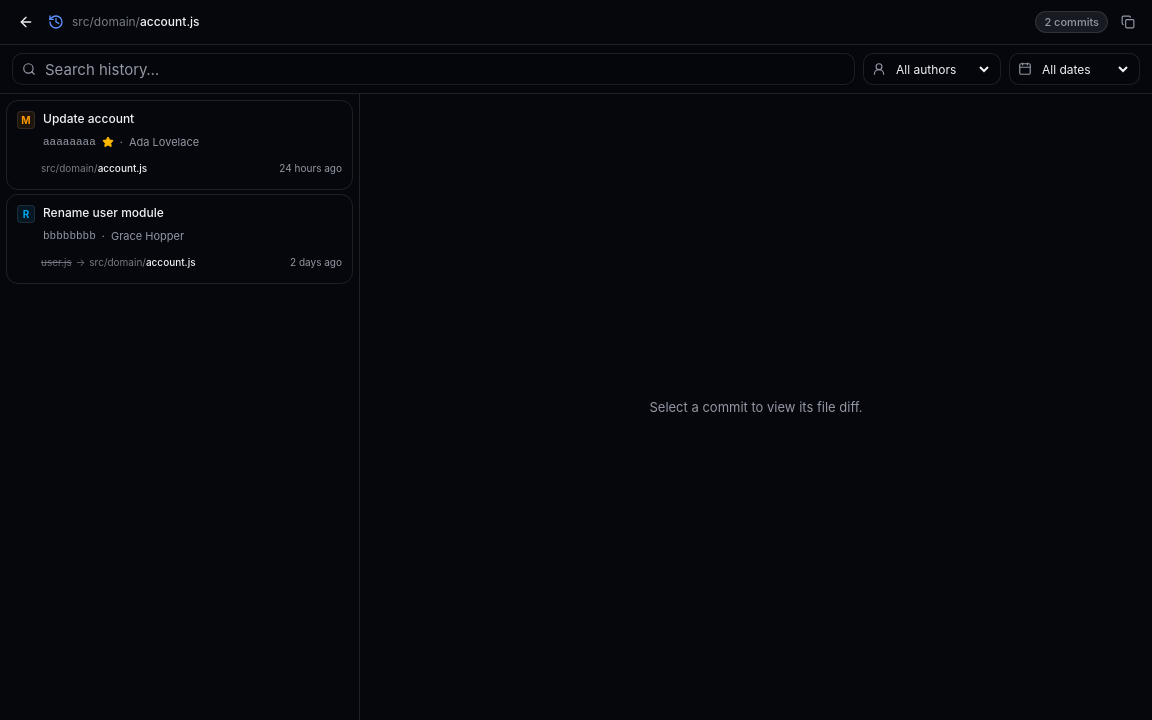
Test: FileHistory › loads history, filters locally, and opens the selected commit diff
Check: the text "Update account" is shown, box [43,111,134,126]
Check: the icon titled "Bookmarked commit" is shown, box [102,136,114,148]
Select "Grace Hopper" in the dropdown named "Filter history by author" at (942, 69), box [892,60,992,78]
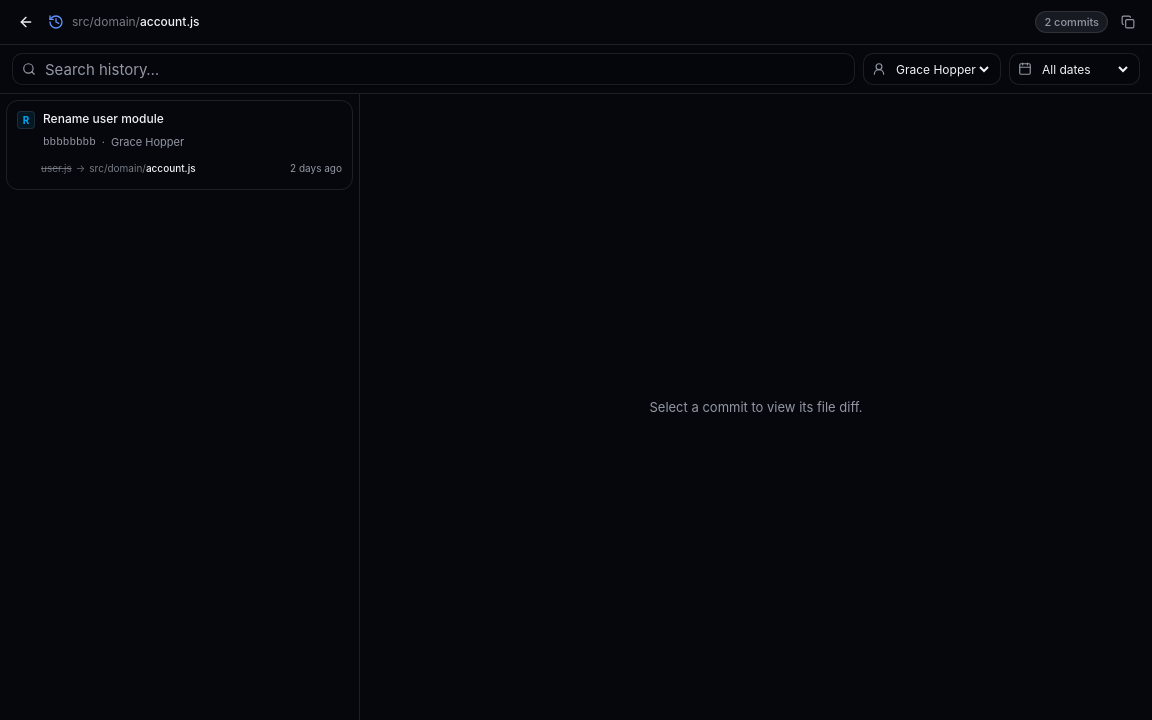
Check: the text "Rename user module" is shown, box [43,111,164,126]
Check: the button "Update account" is gone
Click the button "Rename user module".
click(180, 145)  # box [6,100,353,190]
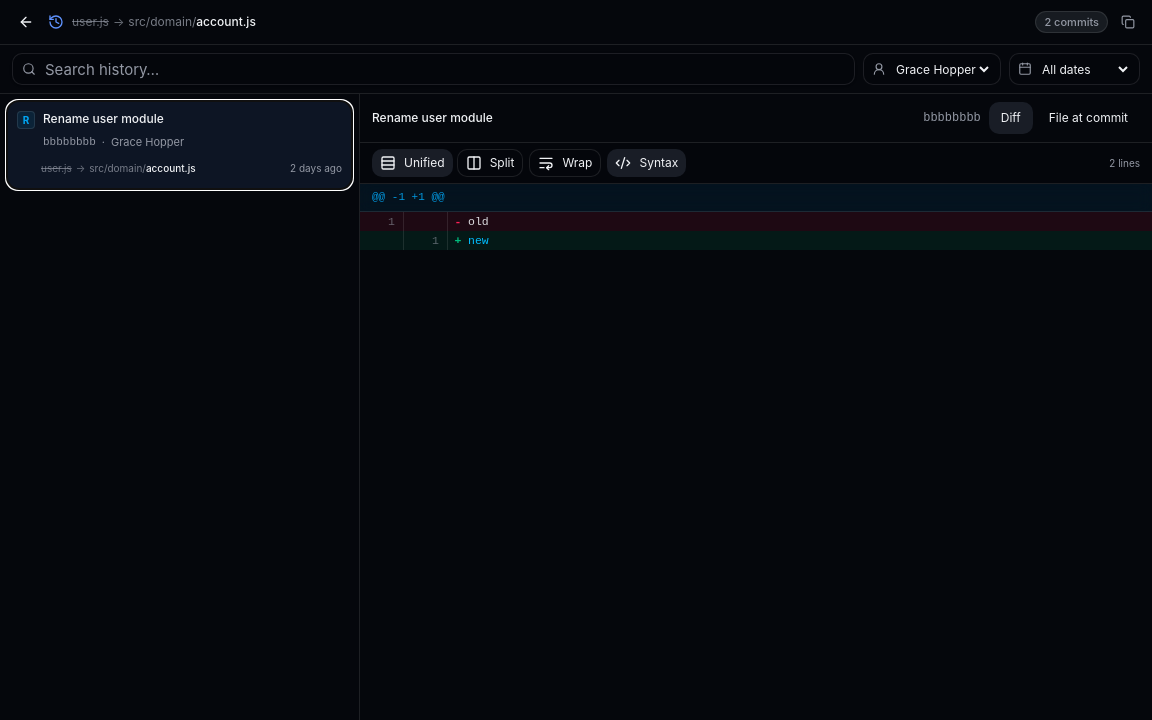
Check: the text "new" is shown, box [468,234,489,247]
Click the tab "File at commit".
click(1088, 118)  # box [1037,102,1140,134]
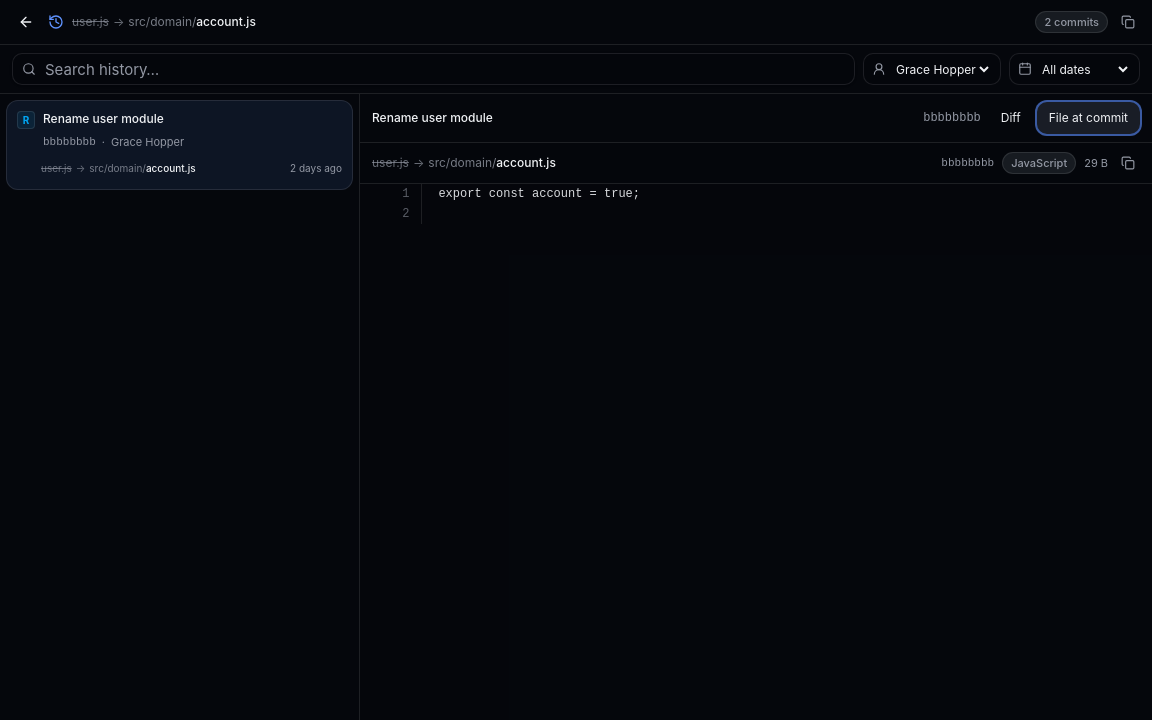
Check: the text "export const account = true;" is shown, box [422,184,656,204]
